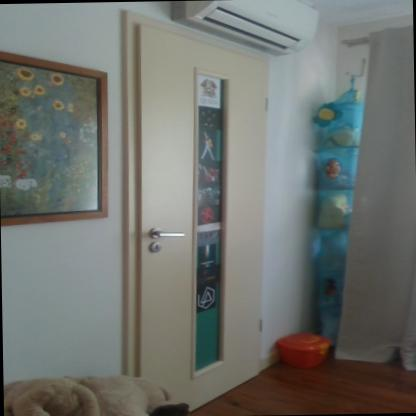closed: (119, 29, 282, 384)
